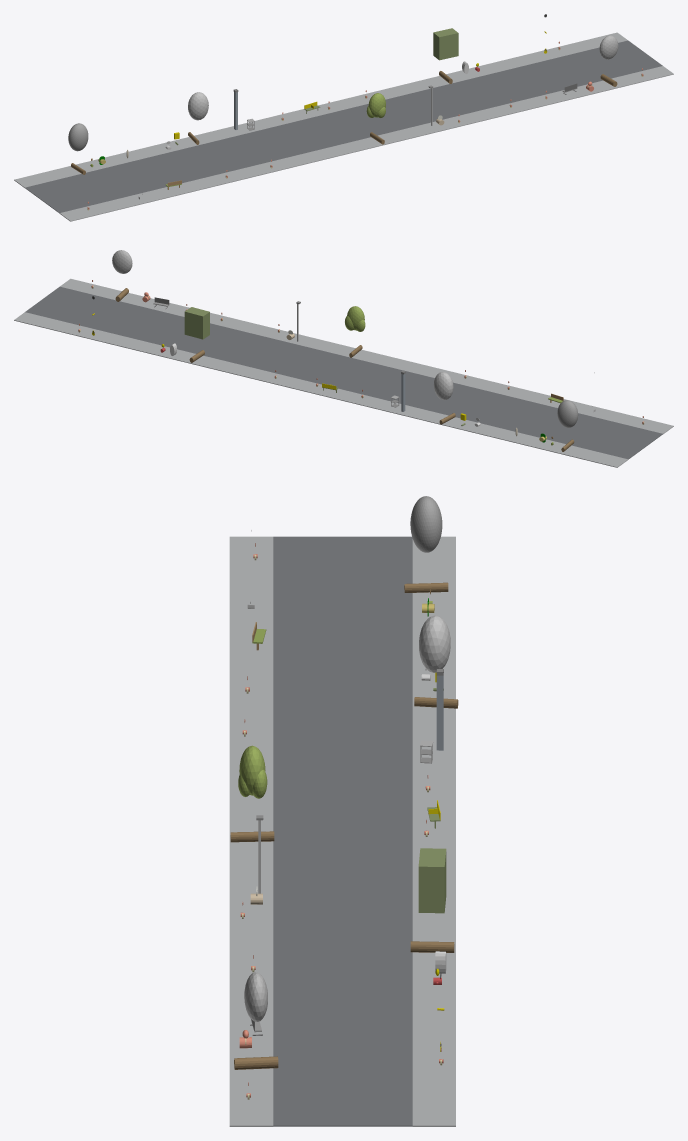
3 renders of one model, top to bottom at view 1: azimuth 30°, elevation 25°; view 2: azimuth 150°, elevation 25°; view 3: azimuth 270°, elevation 25°, orthographic. The views are drawn at different scales.
Parts seen in each view (by area): view 1: road_slab, sidewalk_left, sidewalk_right, inst_0015, inst_0013, inst_0012, inst_0014, inst_0016; view 2: road_slab, sidewalk_right, sidewalk_left, inst_0015, inst_0012, inst_0013, inst_0014, inst_0016; view 3: road_slab, sidewalk_left, sidewalk_right, inst_0015, inst_0012, inst_0013, inst_0014, inst_0016.
Boxes of the visible parts, box(x1,y1,x2,y2) form: road_slab: box(25, 40, 662, 213); sidewalk_left: box(59, 66, 673, 221); sidewalk_right: box(14, 32, 627, 187); inst_0015: box(433, 28, 458, 83); inst_0013: box(188, 92, 208, 144); inst_0012: box(68, 123, 88, 174); inst_0014: box(366, 93, 385, 144); inst_0016: box(599, 35, 618, 86); road_slab: box(25, 286, 662, 459); sidewalk_right: box(14, 312, 628, 467); sidewalk_left: box(60, 278, 673, 434); inst_0015: box(184, 307, 209, 362); inst_0012: box(557, 400, 578, 451); inst_0013: box(433, 372, 455, 424); inst_0014: box(345, 306, 365, 357); inst_0016: box(112, 250, 132, 301); road_slab: box(273, 536, 412, 1126); sidewalk_left: box(229, 536, 273, 1126); sidewalk_right: box(412, 536, 455, 1126); inst_0015: box(410, 848, 454, 952); inst_0012: box(404, 496, 448, 592); inst_0013: box(414, 615, 458, 708); inst_0014: box(230, 745, 274, 842); inst_0016: box(234, 972, 278, 1069).
Size of the model in its own units: 80 by 6.08 by 13.12.
